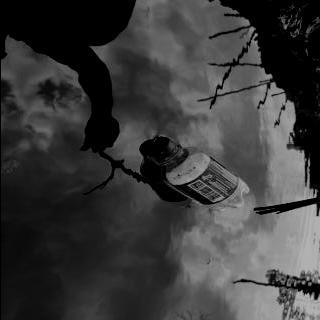bottle: (144, 134, 250, 213)
